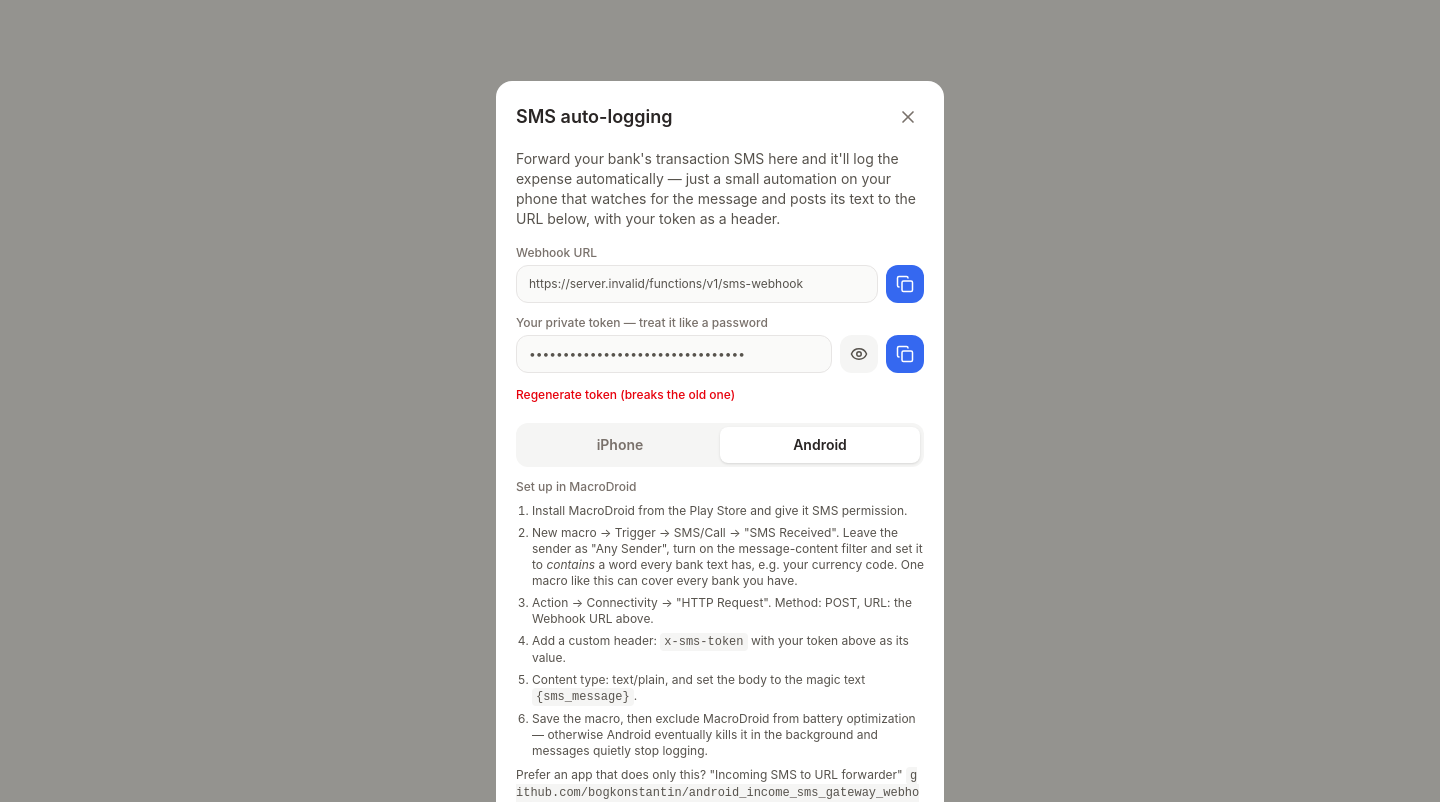
Test: SmsAutoLogSheet › tells both platforms to send the token as a header
The width and height of the screenshot is (1440, 802).
Expected: the text "x-sms-token" is shown, 660,633 -> 748,651
Step 1. Click the button "iPhone" → click(620, 445), box 520,427 -> 720,463
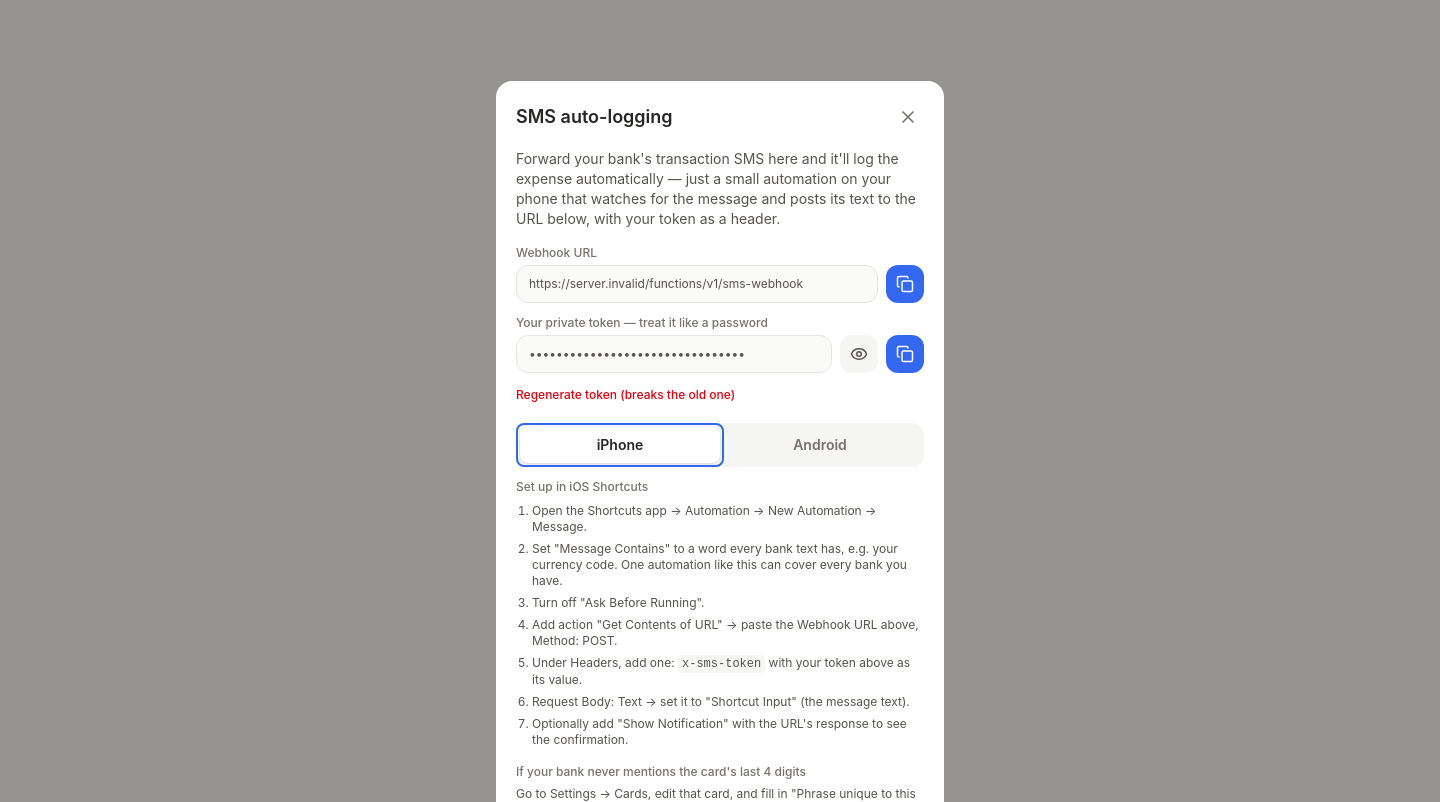
Now the text "x-sms-token" is shown, box 678,655 -> 765,673
